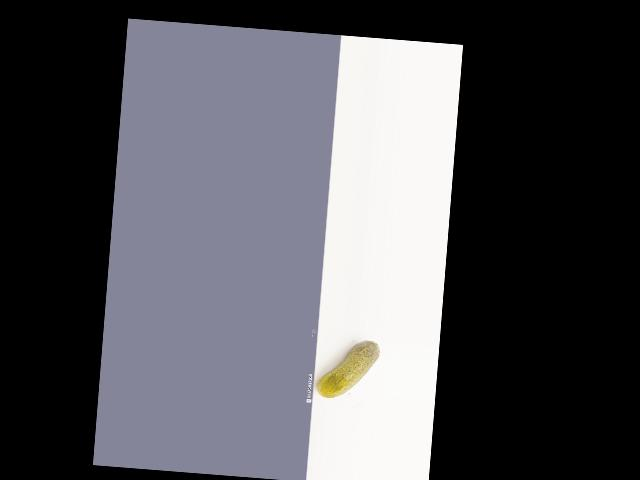cucumber: (315, 336, 379, 401)
